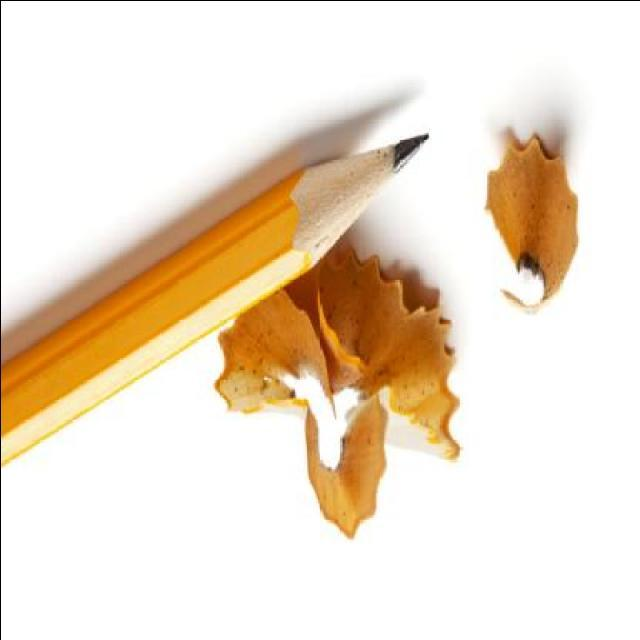pencil: (252, 111, 434, 283)
